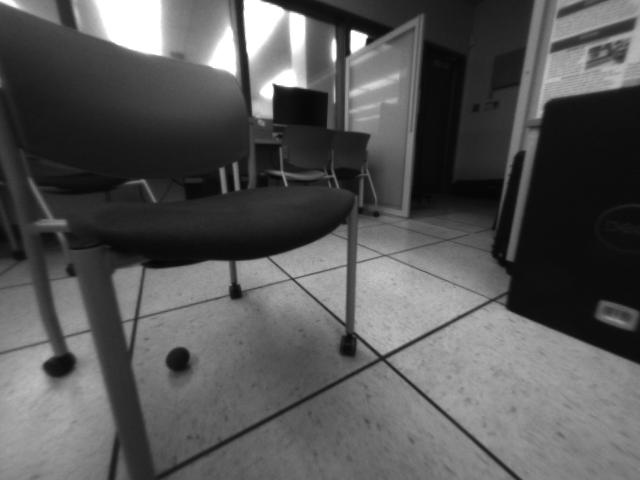dogtoy: (155, 340, 202, 381)
